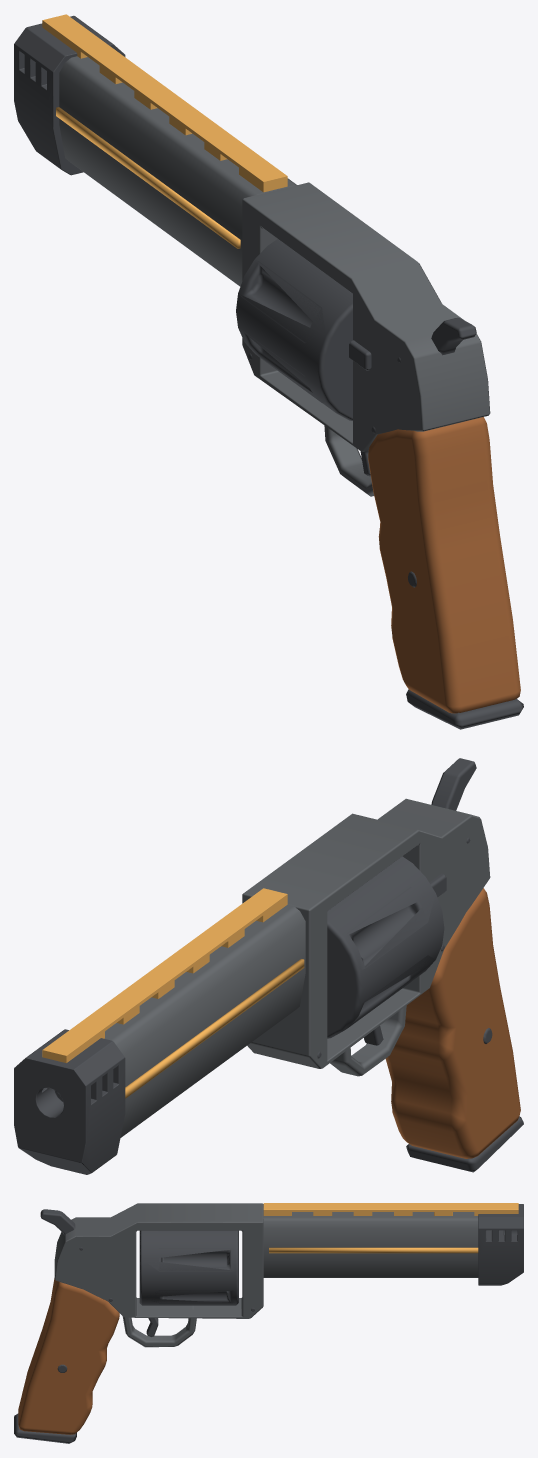
File: rhino.glb
3 views of the same model, one above another, from view 1: azimuth 30°, elevation 25°; view 2: azimuth 150°, elevation 25°; view 3: azimuth 270°, elevation 25° (orthographic). The views are drawn at different scales.
Parts seen in each view (by area): view 1: rhgrip, rhframe, rhbarrel, drum.001, rhrib, rhcomp, rhstripe0, rhbuttcap, rhguard, rhhammer; view 2: rhframe, rhgrip, rhbarrel, drum.001, rhcomp, rhrib, rhstripe0, rhguard, rhbuttcap, rhhammer; view 3: rhframe, rhbarrel, rhgrip, drum.001, rhcomp, rhrib, rhstripe2, rhguard, rhbuttcap, rhhammer.
Part boxes in pixels (x1,y1,x2,y2): rhgrip: [368, 417, 520, 713]; rhframe: [242, 182, 490, 451]; rhbarrel: [59, 56, 296, 286]; drum.001: [236, 239, 352, 420]; rhrib: [42, 14, 287, 192]; rhcomp: [14, 15, 125, 175]; rhstripe0: [56, 107, 240, 248]; rhbuttcap: [406, 689, 523, 729]; rhguard: [324, 425, 374, 496]; rhhammer: [431, 317, 476, 355]; rhframe: [242, 798, 490, 1068]; rhgrip: [385, 888, 520, 1158]; rhbarrel: [104, 904, 305, 1137]; drum.001: [327, 856, 444, 1038]; rhcomp: [14, 1029, 125, 1174]; rhrib: [42, 888, 287, 1062]; rhstripe0: [125, 959, 304, 1098]; rhguard: [330, 1005, 406, 1076]; rhbuttcap: [406, 1116, 523, 1172]; rhhammer: [431, 758, 476, 810]; rhframe: [54, 1203, 263, 1318]; rhbarrel: [263, 1208, 486, 1277]; rhgrip: [18, 1278, 119, 1434]; drum.001: [139, 1230, 238, 1305]; rhcomp: [478, 1204, 523, 1285]; rhrib: [263, 1203, 518, 1215]; rhstripe2: [269, 1247, 478, 1253]; rhguard: [122, 1305, 196, 1347]; rhbuttcap: [14, 1413, 76, 1443]; rhhammer: [40, 1209, 75, 1235].
Bounding box in the file's own units: 0.063 × 0.1886 × 0.3802.
